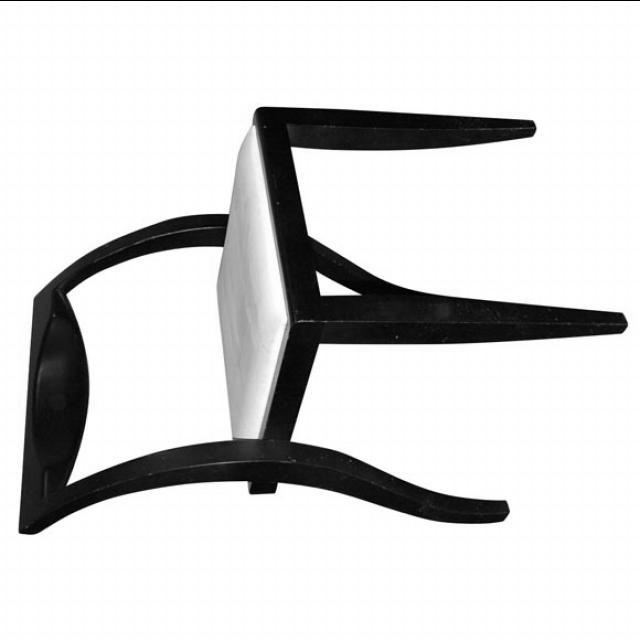chair: (15, 106, 629, 534)
